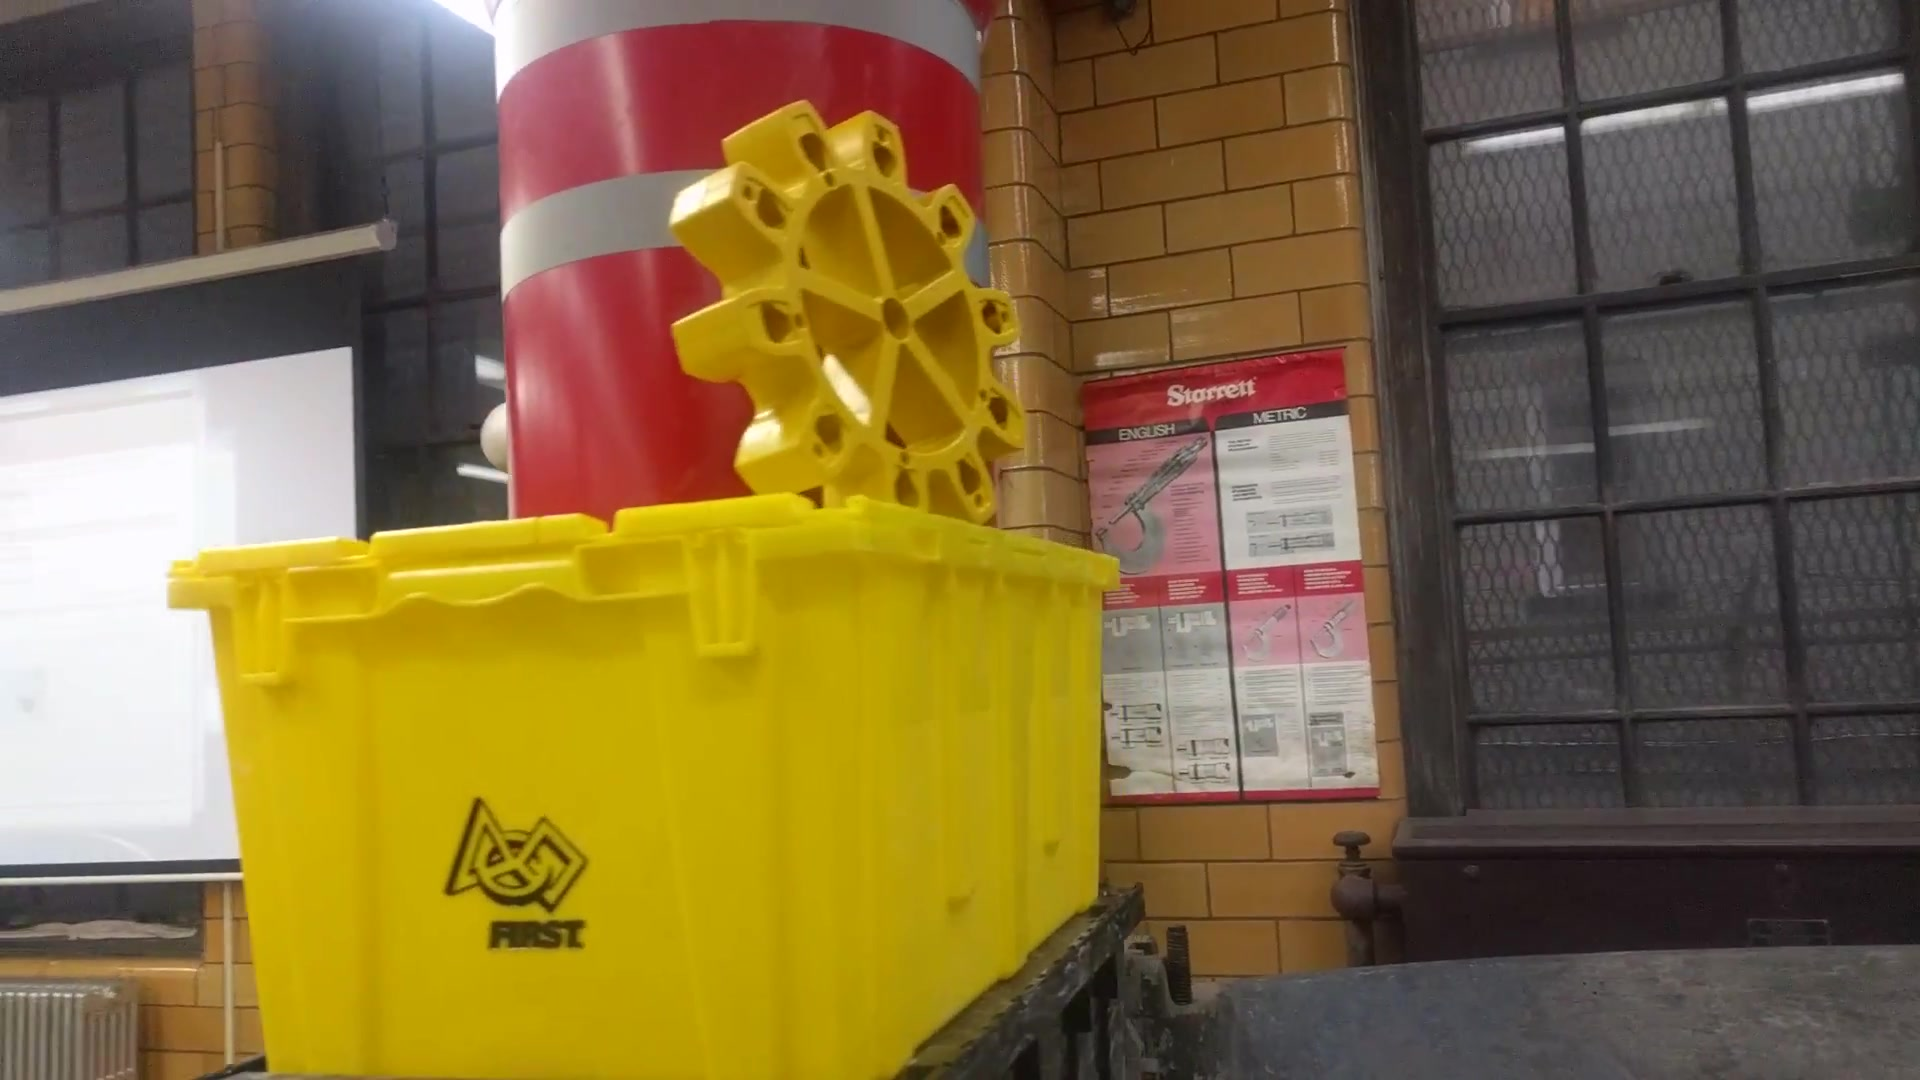gear: (642, 95, 1038, 567)
